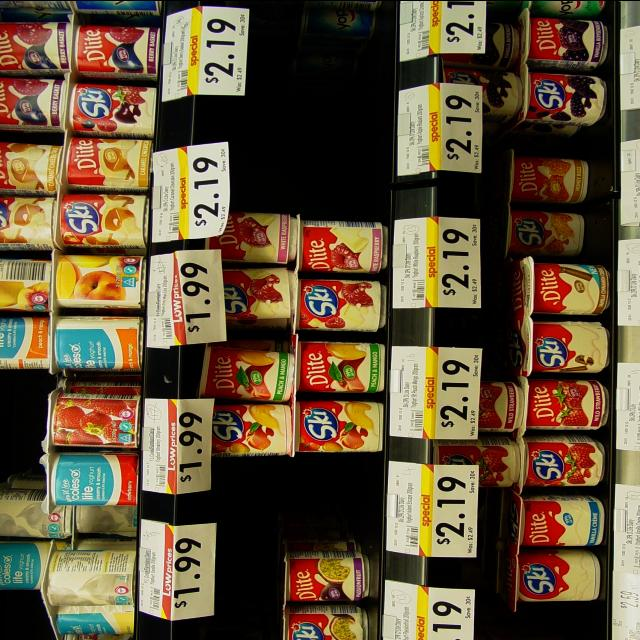empty_space: (245, 53, 383, 201), (231, 464, 378, 524), (510, 605, 598, 635)
